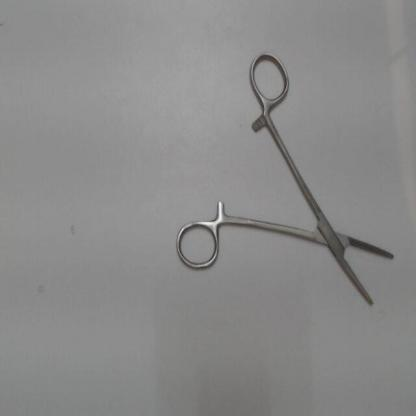Mayo Needle Holder: (172, 45, 402, 320)
